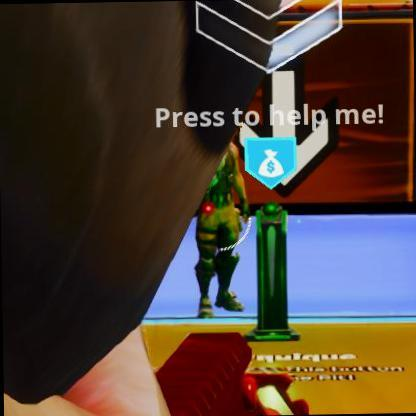person: (199, 172, 246, 304)
